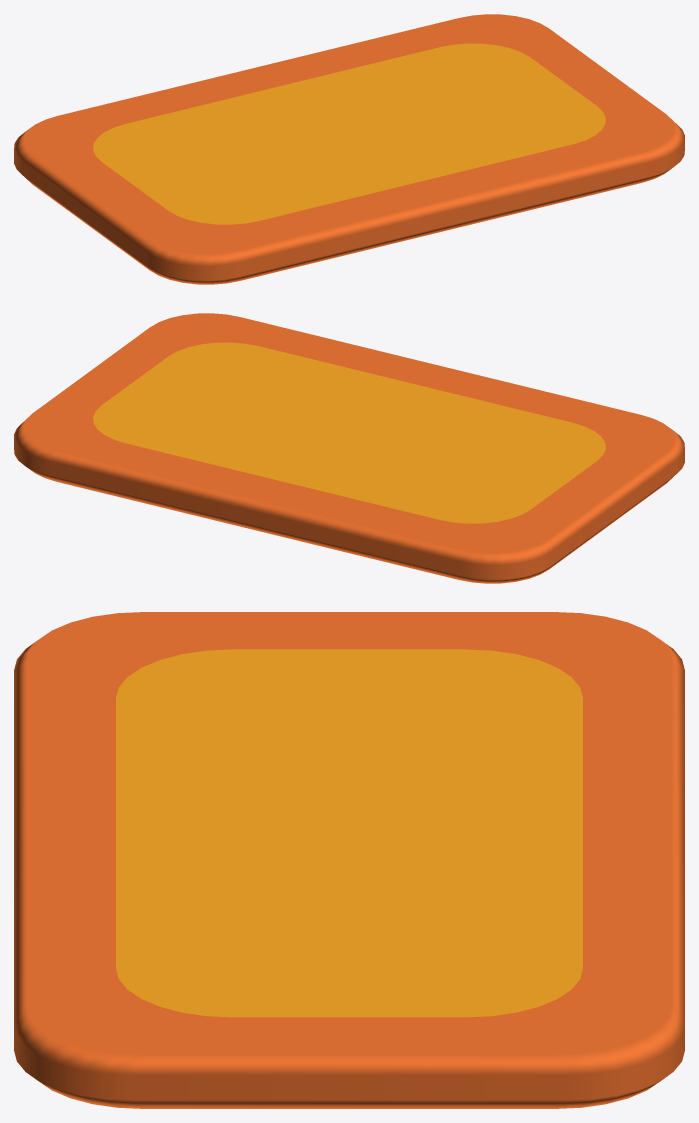
File: Rug.fbx
The picture shows the model from 3 angles, top to bottom: view 1: azimuth 30°, elevation 25°; view 2: azimuth 150°, elevation 25°; view 3: azimuth 270°, elevation 25°; orthographic projection. The views are drawn at different scales.
Visible parts, largest first — view 1: Plane.003; view 2: Plane.003; view 3: Plane.003.
Part boxes in pixels (x1,y1,x2,y2): Plane.003: (14, 14, 684, 284); Plane.003: (14, 313, 684, 583); Plane.003: (14, 612, 684, 1108).
Size of the model in its own units: 131 by 7.3 by 81.95.
